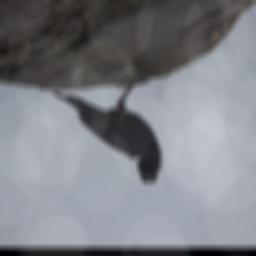Crow: (52, 81, 164, 185)
